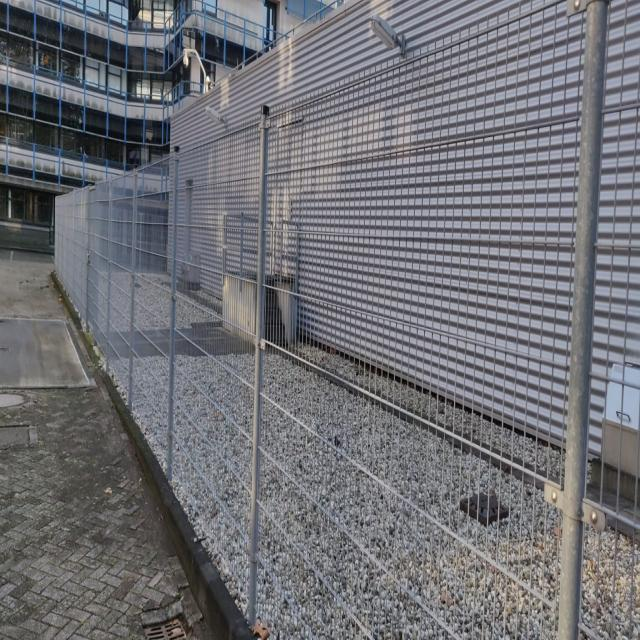fence line: (220, 60, 640, 640), (49, 172, 319, 640)
